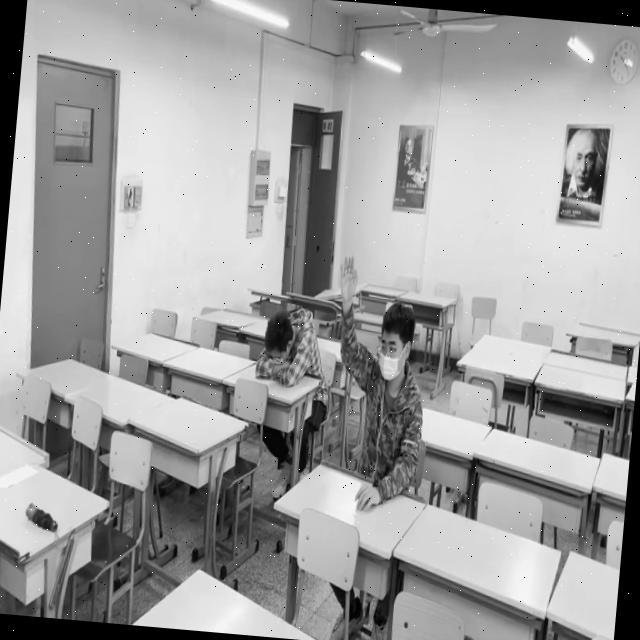sleep: (254, 313, 317, 386)
study: (317, 257, 433, 510)
